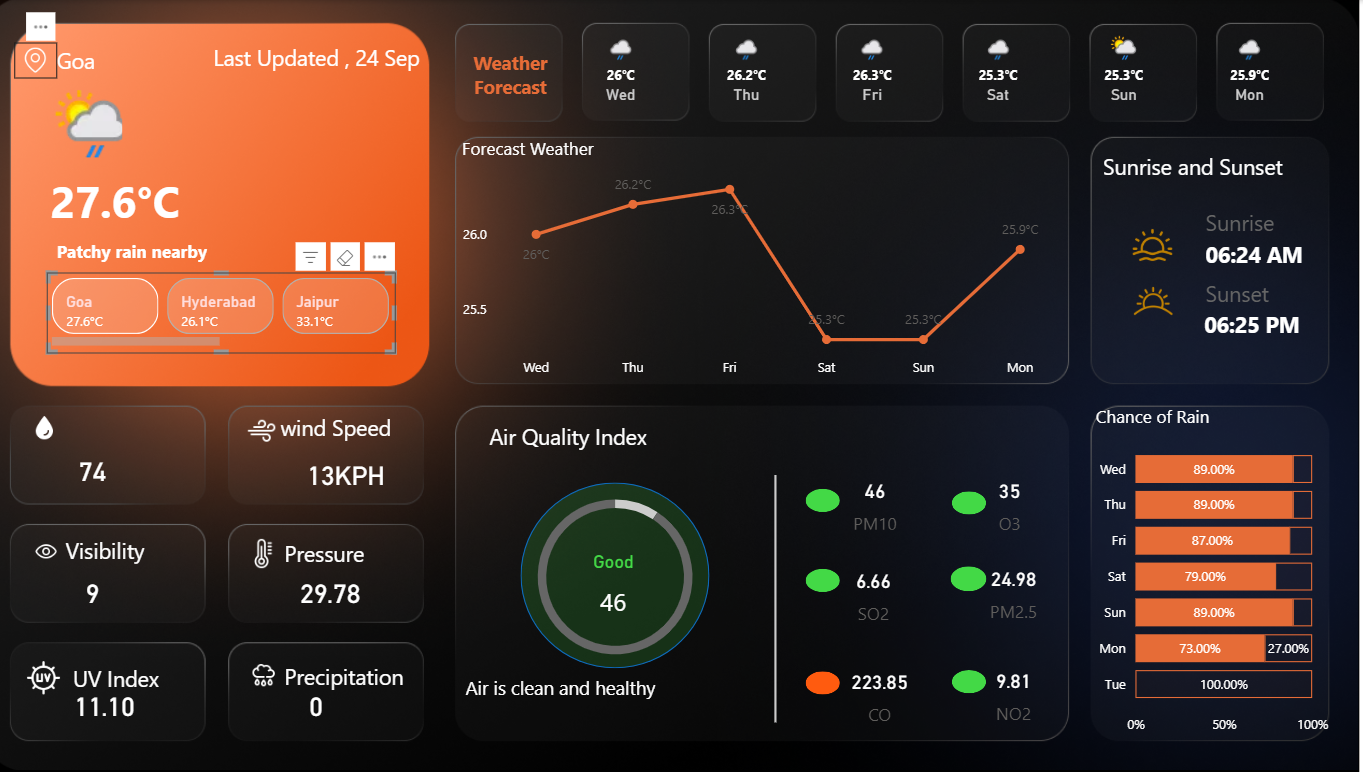

Layout of this report page (visuals, bound fields, positions):
{"tool":"powerbi","page":{"name":"Page 1","canvas":[1280,720],"ordinal":0},"visuals":[{"type":"shape","box":[500,448.6,175.7,172.9],"z":0},{"type":"advancedSlicerVisual","fields":{"Values":["Locations.location.name"]},"box":[59,253.9,325.2,75.5],"z":1000},{"type":"shape","box":[63.1,156.4,133.1,57.6],"z":2000},{"type":"shape","box":[68.6,214.1,190.7,39.8],"z":3000},{"type":"shape","box":[68.6,39.8,104.3,32.9],"z":4000},{"type":"shape","box":[212.7,38.4,193.5,30.2],"z":5000},{"type":"image","box":[28.8,39.8,39.8,32.9],"z":6000},{"type":"cardVisual","fields":{"Data":["Min(Current_day.current.condition.icon)"]},"box":[41.2,56.3,94.7,98.8],"z":7000},{"type":"image","box":[41.2,496.7,35.7,32.9],"z":8000},{"type":"image","box":[240.1,378.7,37,42.5],"z":9000},{"type":"image","box":[41.2,378.7,32.9,37],"z":10000},{"type":"image","box":[27.4,609.3,56.3,42.5],"z":11000},{"type":"image","box":[241.5,610.6,38.4,35.7],"z":12000},{"type":"image","box":[240.1,496.7,39.8,37],"z":13000},{"type":"shape","box":[76.8,496.7,193.5,30.2],"z":14000},{"type":"shape","box":[83.7,616.1,193.5,30.2],"z":15000},{"type":"shape","box":[279.9,613.4,193.5,30.2],"z":16000},{"type":"shape","box":[1041.5,140,193.5,30.2],"z":17000},{"type":"shape","box":[279.9,499.5,193.5,30.2],"z":18000},{"type":"shape","box":[277.2,382.8,193.5,30.2],"z":19000},{"type":"card","fields":{"Values":["Sum(Current_day.current.humidity)"]},"box":[74.1,413,54.9,50.8],"z":20000},{"type":"card","fields":{"Values":["_Measures.Wind_Speed"]},"box":[282.7,415.8,109.8,50.8],"z":21000},{"type":"card","fields":{"Values":["Sum(Current_day.current.vis_km)"]},"box":[74.1,526.9,54.9,50.8],"z":22000},{"type":"card","fields":{"Values":["Sum(Current_day.current.pressure_in)"]},"box":[282.7,526.9,81,50.8],"z":23000},{"type":"card","fields":{"Values":["Sum(Current_day.current.uv)"]},"box":[76.8,631.2,72.7,50.8],"z":24000},{"type":"card","fields":{"Values":["Sum(Current_day.current.precip_mm)"]},"box":[282.7,631.2,54.9,50.8],"z":25000},{"type":"advancedSlicerVisual","fields":{"Values":["Forecast_day.Day_Name"]},"box":[533.8,23.3,709.4,91.9],"z":26000},{"type":"lineChart","title":"Forecast Weather","fields":{"Y":["Sum(Forecast_day.forecast.forecastday.day.avgtemp_c)"],"Category":["Forecast_day.Day_Name"]},"box":[440.5,126.2,565.4,233.3],"z":27000},{"type":"shape","box":[1137.6,207.2,133.1,57.6],"z":28000},{"type":"shape","box":[1137.6,185.2,119.4,42.5],"z":29000},{"type":"shape","box":[1136.2,271.7,133.1,57.6],"z":30000},{"type":"shape","box":[1137.6,242.9,133.1,57.6],"z":31000},{"type":"image","box":[1053.9,204.5,68.6,46.7],"z":32000},{"type":"image","box":[1058,251.1,60.4,57.6],"z":33000},{"type":"hundredPercentStackedBarChart","title":"Chance of Rain","fields":{"Y":["Sum(Forecast_day.forecast.forecastday.day.daily_chance_of_rain)","Current_day.Left_Value_Rain"],"Category":["Forecast_day.Day_Name"]},"box":[1030.5,376,226.4,317],"z":34000},{"type":"shape","box":[470.7,391.1,193.5,30.2],"z":35000},{"type":"card","fields":{"Values":["Sum(Current_day.current.air_quality.pm10)"]},"box":[796.7,438.4,67,59.7],"z":36000},{"type":"card","fields":{"Values":["Sum(Current_day.current.air_quality.so2)"]},"box":[796.7,517.1,64.1,69.9],"z":37000},{"type":"card","fields":{"Values":["Sum(Current_day.current.air_quality.o3)"]},"box":[917.6,432.6,75.7,71.4],"z":38000},{"type":"card","fields":{"Values":["Sum(Current_day.current.air_quality.no2)"]},"box":[923.4,610.3,71.4,69.9],"z":39000},{"type":"card","fields":{"Values":["Sum(Current_day.current.air_quality.pm2_5)"]},"box":[917.6,512.7,83,74.3],"z":40000},{"type":"card","fields":{"Values":["Sum(Current_day.current.air_quality.co)"]},"box":[796.7,608.8,75.7,72.8],"z":41000},{"type":"shape","box":[764.7,454.4,32,21.8],"z":42000},{"type":"shape","box":[900.1,527.3,33.5,23.3],"z":43000},{"type":"shape","box":[901.6,623.4,32,21.8],"z":44000},{"type":"shape","box":[901.6,457.4,32,21.8],"z":45000},{"type":"shape","box":[764.7,528.7,32,21.8],"z":46000},{"type":"shape","box":[764.7,624.9,32,21.8],"z":47000},{"type":"shape","box":[694.8,441.3,85.9,230.1],"z":48000},{"type":"card","fields":{"Values":["Sum(Current_day.current.air_quality.pm10)"]},"box":[534.3,512.9,105.7,78.6],"z":49000},{"type":"donutChart","fields":{"Y":["Sum(Current_day.current.air_quality.pm10)","_Measures.Left_Value_PM10"]},"box":[435.7,441.4,304.3,190],"z":50000},{"type":"shape","box":[448.6,615.7,291.4,47.1],"z":51000},{"type":"shape","box":[448.3,22.9,83.5,91.5],"z":51001}]}

Visuals, with their boxes on the page's 1280x720 design canvas (x1, y1, x2, y2). These are canvas units, not pixel positions in the 1363x772 screenshot, which may show the page scaled, cropped or inside an application window:
shape: x1=500, y1=449, x2=676, y2=622
advancedSlicerVisual - Locations.location.name: x1=59, y1=254, x2=384, y2=329
shape: x1=63, y1=156, x2=196, y2=214
shape: x1=69, y1=214, x2=259, y2=254
shape: x1=69, y1=40, x2=173, y2=73
shape: x1=213, y1=38, x2=406, y2=69
image: x1=29, y1=40, x2=69, y2=73
cardVisual - Min(Current_day.current.condition.icon): x1=41, y1=56, x2=136, y2=155
image: x1=41, y1=497, x2=77, y2=530
image: x1=240, y1=379, x2=277, y2=421
image: x1=41, y1=379, x2=74, y2=416
image: x1=27, y1=609, x2=84, y2=652
image: x1=242, y1=611, x2=280, y2=646
image: x1=240, y1=497, x2=280, y2=534
shape: x1=77, y1=497, x2=270, y2=527
shape: x1=84, y1=616, x2=277, y2=646
shape: x1=280, y1=613, x2=473, y2=644
shape: x1=1042, y1=140, x2=1235, y2=170
shape: x1=280, y1=500, x2=473, y2=530
shape: x1=277, y1=383, x2=471, y2=413
card - Sum(Current_day.current.humidity): x1=74, y1=413, x2=129, y2=464
card - _Measures.Wind_Speed: x1=283, y1=416, x2=392, y2=467
card - Sum(Current_day.current.vis_km): x1=74, y1=527, x2=129, y2=578
card - Sum(Current_day.current.pressure_in): x1=283, y1=527, x2=364, y2=578
card - Sum(Current_day.current.uv): x1=77, y1=631, x2=150, y2=682
card - Sum(Current_day.current.precip_mm): x1=283, y1=631, x2=338, y2=682
advancedSlicerVisual - Forecast_day.Day_Name: x1=534, y1=23, x2=1243, y2=115
"Forecast Weather" lineChart: x1=440, y1=126, x2=1006, y2=360
shape: x1=1138, y1=207, x2=1271, y2=265
shape: x1=1138, y1=185, x2=1257, y2=228
shape: x1=1136, y1=272, x2=1269, y2=329
shape: x1=1138, y1=243, x2=1271, y2=300
image: x1=1054, y1=204, x2=1122, y2=251
image: x1=1058, y1=251, x2=1118, y2=309
"Chance of Rain" hundredPercentStackedBarChart: x1=1030, y1=376, x2=1257, y2=693
shape: x1=471, y1=391, x2=664, y2=421
card - Sum(Current_day.current.air_quality.pm10): x1=797, y1=438, x2=864, y2=498
card - Sum(Current_day.current.air_quality.so2): x1=797, y1=517, x2=861, y2=587
card - Sum(Current_day.current.air_quality.o3): x1=918, y1=433, x2=993, y2=504
card - Sum(Current_day.current.air_quality.no2): x1=923, y1=610, x2=995, y2=680
card - Sum(Current_day.current.air_quality.pm2_5): x1=918, y1=513, x2=1001, y2=587
card - Sum(Current_day.current.air_quality.co): x1=797, y1=609, x2=872, y2=682
shape: x1=765, y1=454, x2=797, y2=476
shape: x1=900, y1=527, x2=934, y2=551
shape: x1=902, y1=623, x2=934, y2=645
shape: x1=902, y1=457, x2=934, y2=479
shape: x1=765, y1=529, x2=797, y2=550
shape: x1=765, y1=625, x2=797, y2=647
shape: x1=695, y1=441, x2=781, y2=671
card - Sum(Current_day.current.air_quality.pm10): x1=534, y1=513, x2=640, y2=592
donutChart - Sum(Current_day.current.air_quality.pm10) x _Measures.Left_Value_PM10: x1=436, y1=441, x2=740, y2=631
shape: x1=449, y1=616, x2=740, y2=663
shape: x1=448, y1=23, x2=532, y2=114
